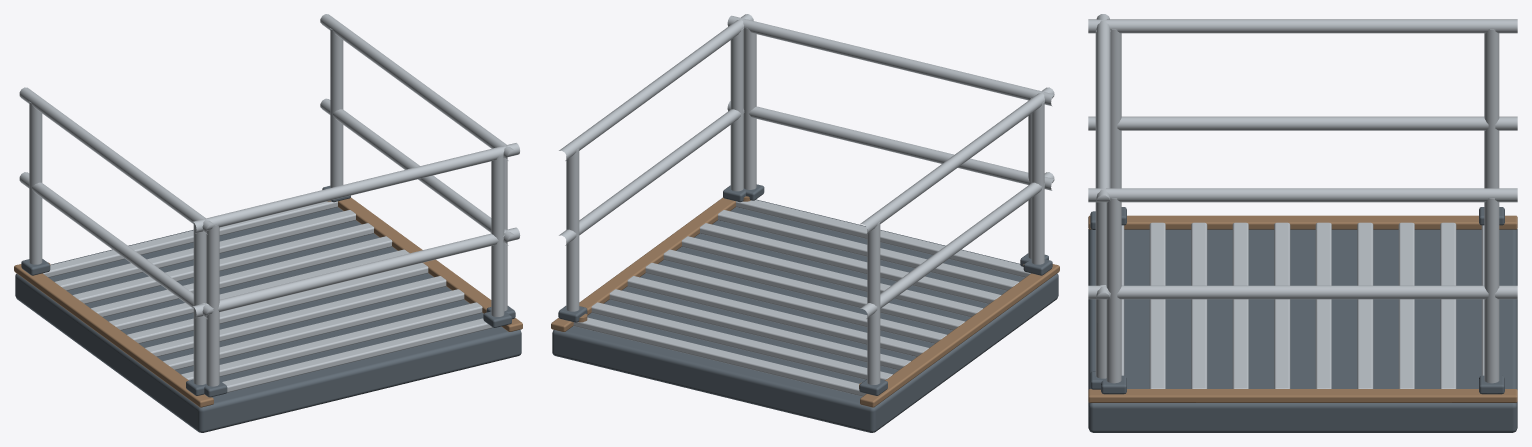
The picture shows the model from 3 angles, left to right: view 1: azimuth 30°, elevation 25°; view 2: azimuth 150°, elevation 25°; view 3: azimuth 270°, elevation 25°; orthographic projection. The views are drawn at different scales.
Visible parts, largest first — view 1: catwalk-end; view 2: catwalk-end; view 3: catwalk-end.
Boxes of the visible parts, bbox=[...] form: catwalk-end: bbox=[14, 14, 522, 432]; catwalk-end: bbox=[551, 14, 1059, 432]; catwalk-end: bbox=[1088, 14, 1517, 432].
Bounding box in the file's own units: 2 × 1.23 × 2.
